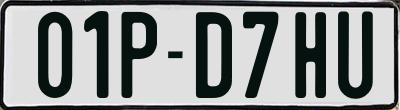0: (36, 10, 74, 98)
1: (84, 8, 112, 99)
7: (242, 11, 277, 99)
D: (196, 10, 238, 102)
H: (292, 11, 324, 103)
P: (120, 11, 156, 98)
U: (335, 9, 370, 99)
